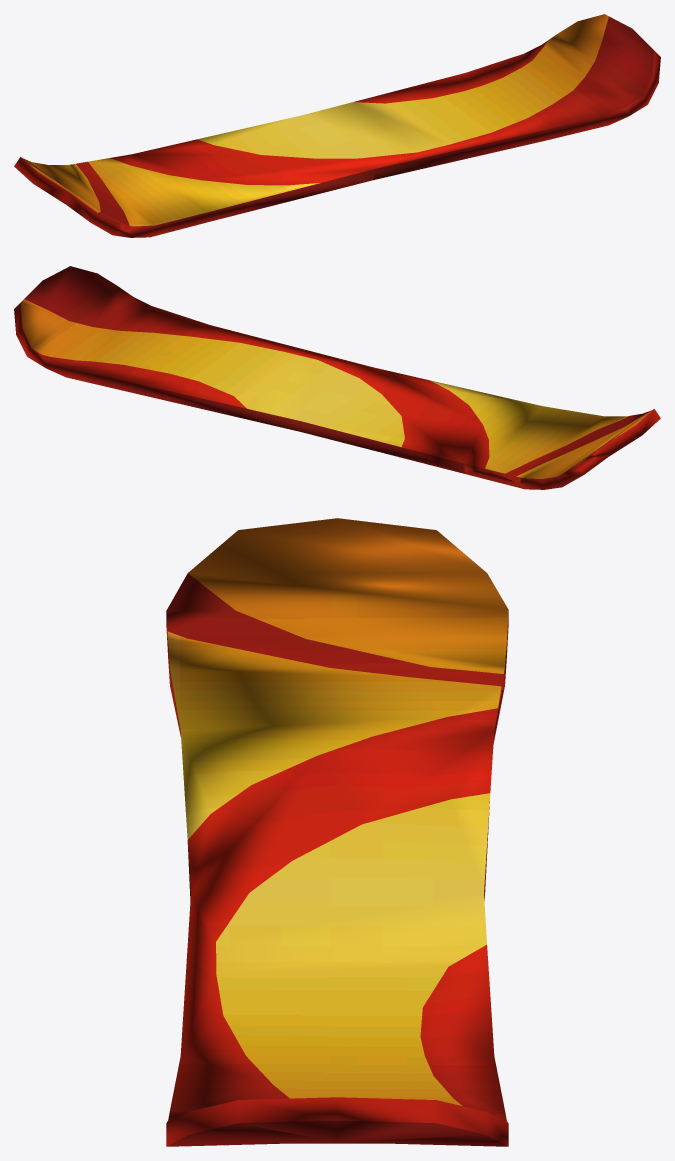
Rendered from Snowboard.glb.
3 renders of one model, top to bottom at view 1: azimuth 30°, elevation 25°; view 2: azimuth 150°, elevation 25°; view 3: azimuth 270°, elevation 25°, orthographic. The views are drawn at different scales.
Visible parts, largest first — view 1: Snowboard; view 2: Snowboard; view 3: Snowboard.
Part boxes in pixels (left/top/right/bottom): Snowboard: left=14, top=14, right=660, bottom=237; Snowboard: left=14, top=266, right=660, bottom=489; Snowboard: left=166, top=518, right=508, bottom=1146.
Size of the model in its own units: 12.76 by 1.17 by 3.12.
Materials: 1 (1 with a texture image).
